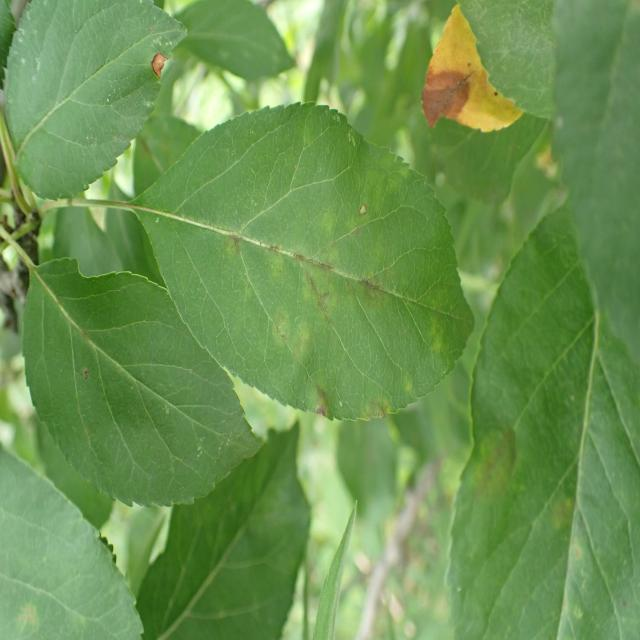Rust: (397, 0, 544, 164)
scab: (209, 161, 439, 444), (468, 314, 599, 637)
